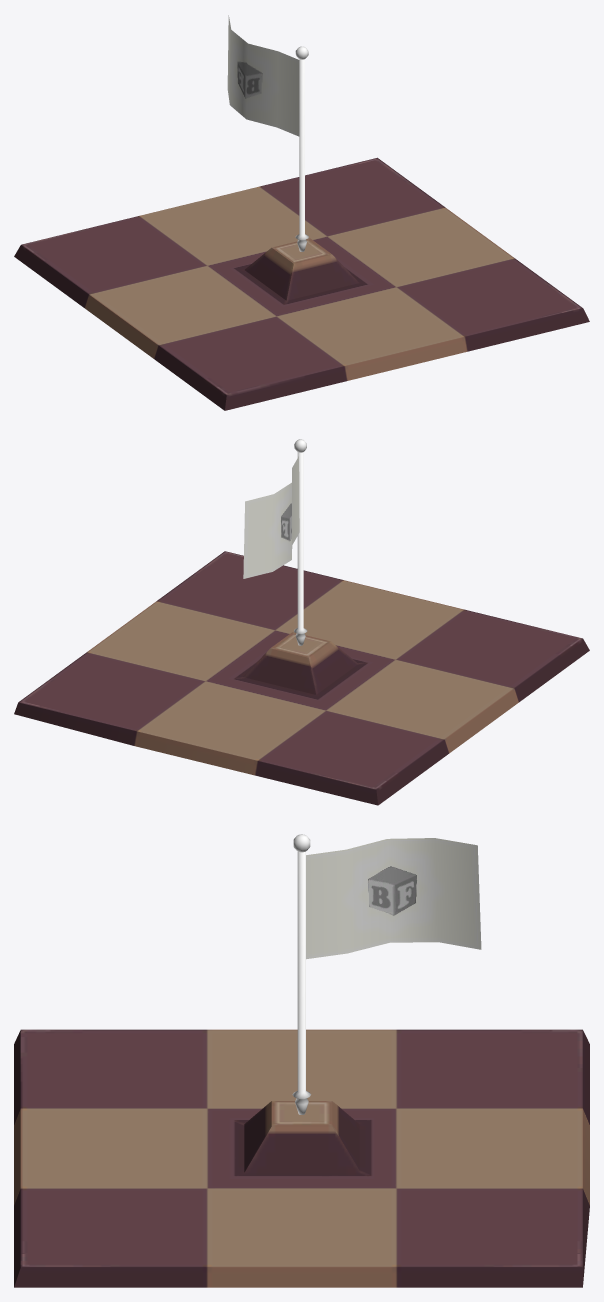
The model's file is battle_flag_01_spwan.obj.
3 views of the same model, one above another, from view 1: azimuth 30°, elevation 25°; view 2: azimuth 150°, elevation 25°; view 3: azimuth 270°, elevation 25° (orthographic). The views are drawn at different scales.
Visible parts, largest first — view 1: battle_flagset, battle_flag, battle_flagbody; view 2: battle_flagset, battle_flag, battle_flagbody; view 3: battle_flagset, battle_flag, battle_flagbody.
Boxes of the visible parts, bbox=[...] form: battle_flagset: bbox=[14, 157, 589, 410]; battle_flag: bbox=[227, 15, 299, 136]; battle_flagbody: bbox=[295, 46, 308, 251]; battle_flagset: bbox=[14, 551, 589, 805]; battle_flag: bbox=[243, 456, 299, 578]; battle_flagbody: bbox=[294, 439, 307, 645]; battle_flagset: bbox=[14, 1029, 589, 1287]; battle_flag: bbox=[306, 838, 481, 959]; battle_flagbody: bbox=[292, 834, 311, 1114].
Size of the model in its own units: 3 by 1.9 by 3.
2 materials, 2 textured.
